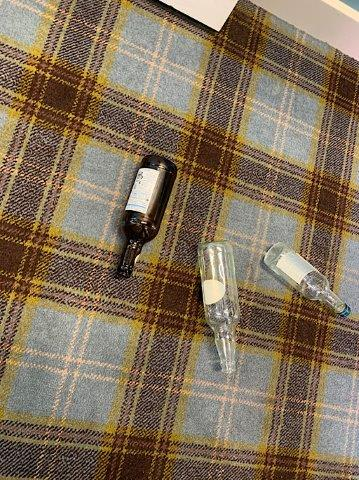botolkaca: (118, 155, 177, 276), (263, 243, 351, 316), (199, 242, 236, 373)
